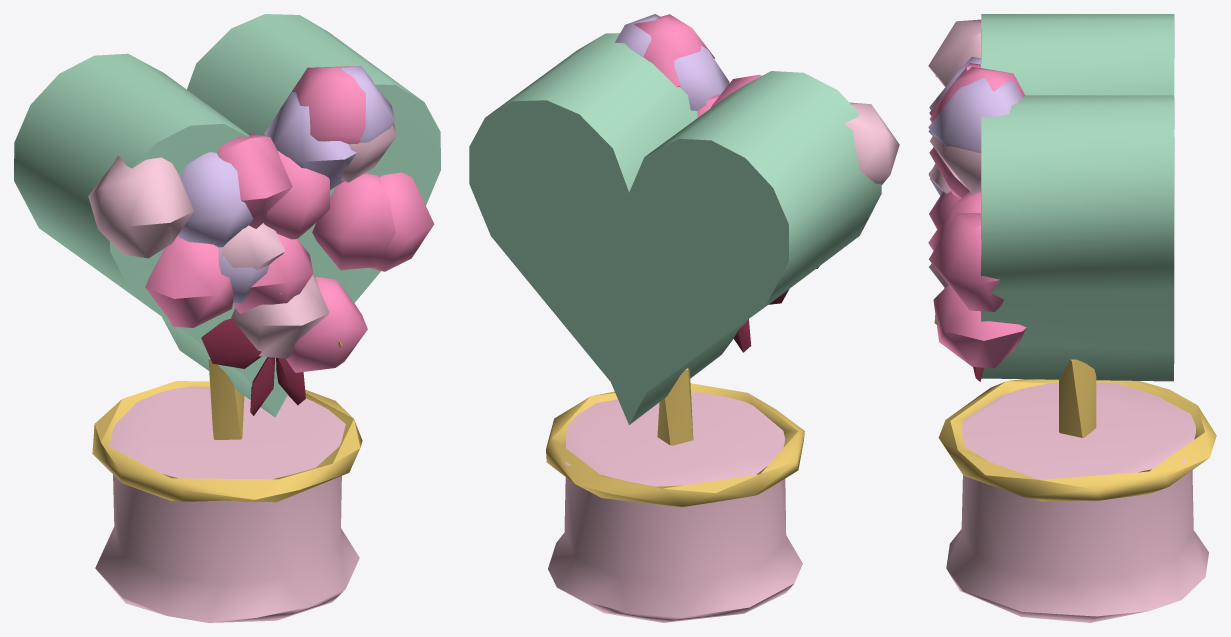
Rendered from hedge_heart.glb.
3 views of the same model, side by side, from view 1: azimuth 30°, elevation 25°; view 2: azimuth 150°, elevation 25°; view 3: azimuth 270°, elevation 25° (orthographic). The views are drawn at different scales.
Visible parts, largest first — view 1: hedge_heart; view 2: hedge_heart; view 3: hedge_heart.
Boxes of the visible parts, x1,y1,x2,y2 form: hedge_heart: [14, 14, 440, 622]; hedge_heart: [469, 14, 899, 622]; hedge_heart: [928, 14, 1216, 622].
Size of the model in its own units: 1.27 by 1.87 by 0.9236.
